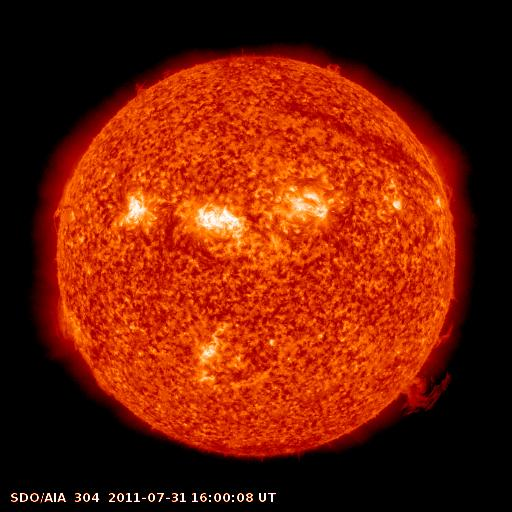prominence: (392, 361, 451, 418), (49, 294, 94, 355), (432, 289, 465, 347), (131, 66, 178, 97), (48, 186, 72, 235), (317, 54, 350, 84)
